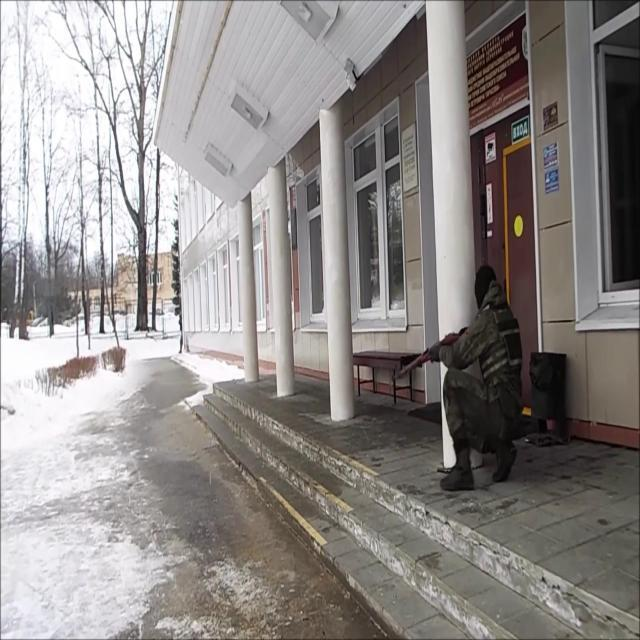pistol: (392, 326, 465, 384)
